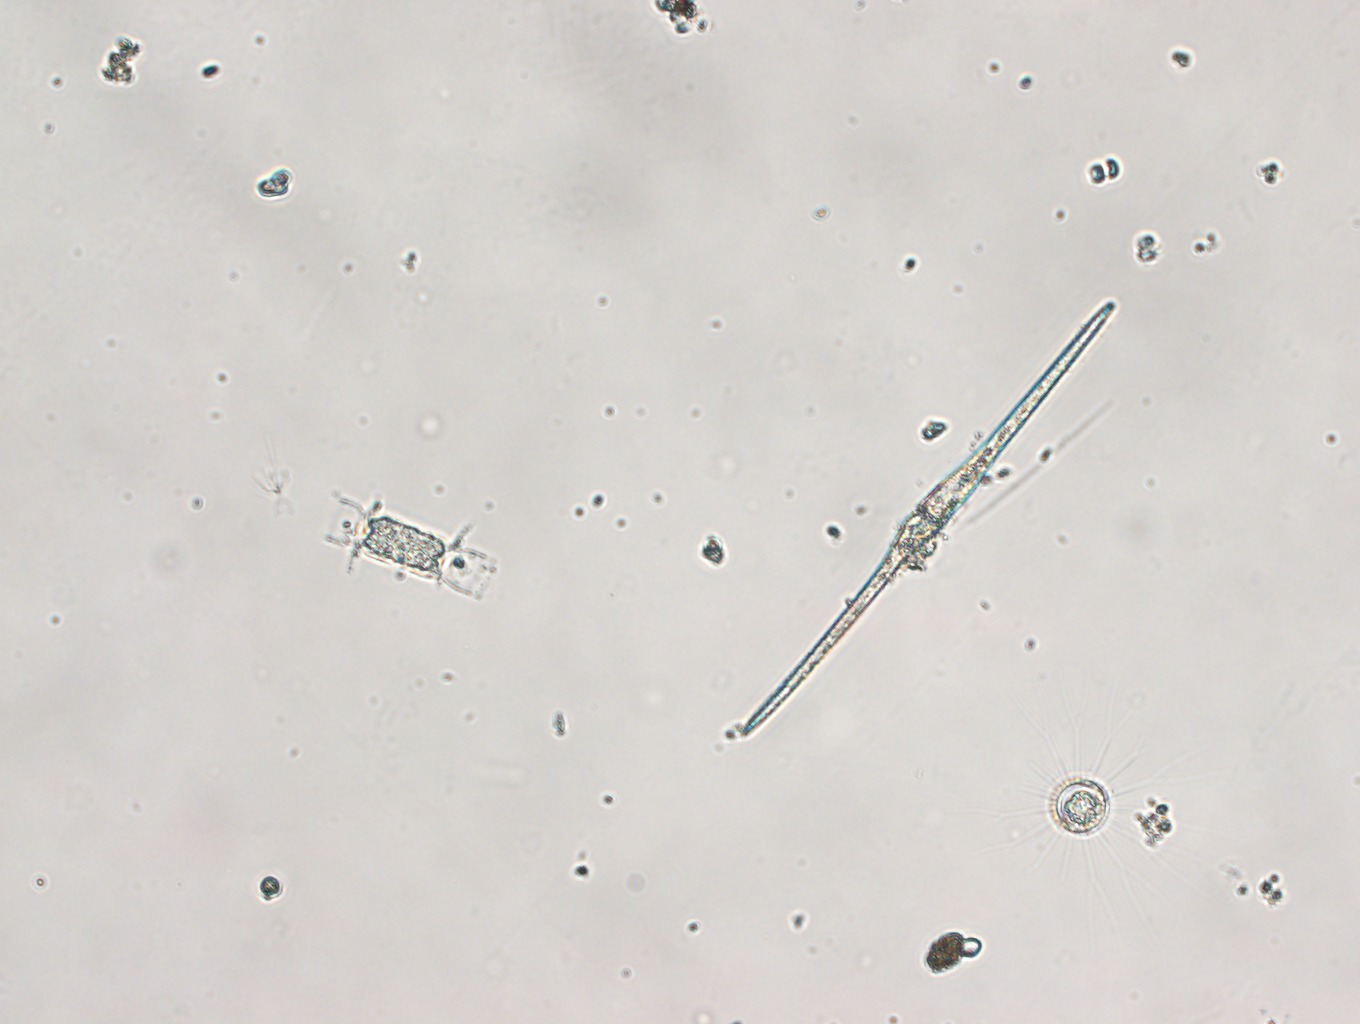ceratium fusus: (738, 298, 1120, 744)
chaetoceros: (323, 497, 499, 606)
